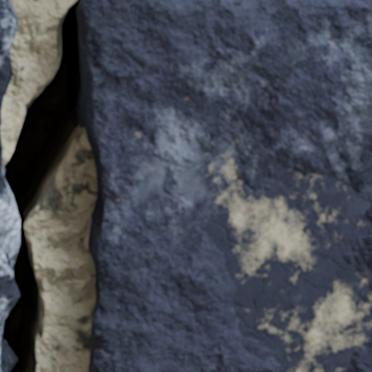brick: (77, 0, 371, 371), (0, 138, 18, 334), (0, 0, 16, 109), (0, 342, 8, 371)
crack: (0, 0, 84, 371)
